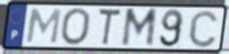9: (158, 7, 186, 49)
C: (187, 8, 220, 49)
M: (120, 7, 159, 49), (24, 8, 63, 45)
O: (59, 7, 92, 47)
T: (96, 7, 123, 47)
